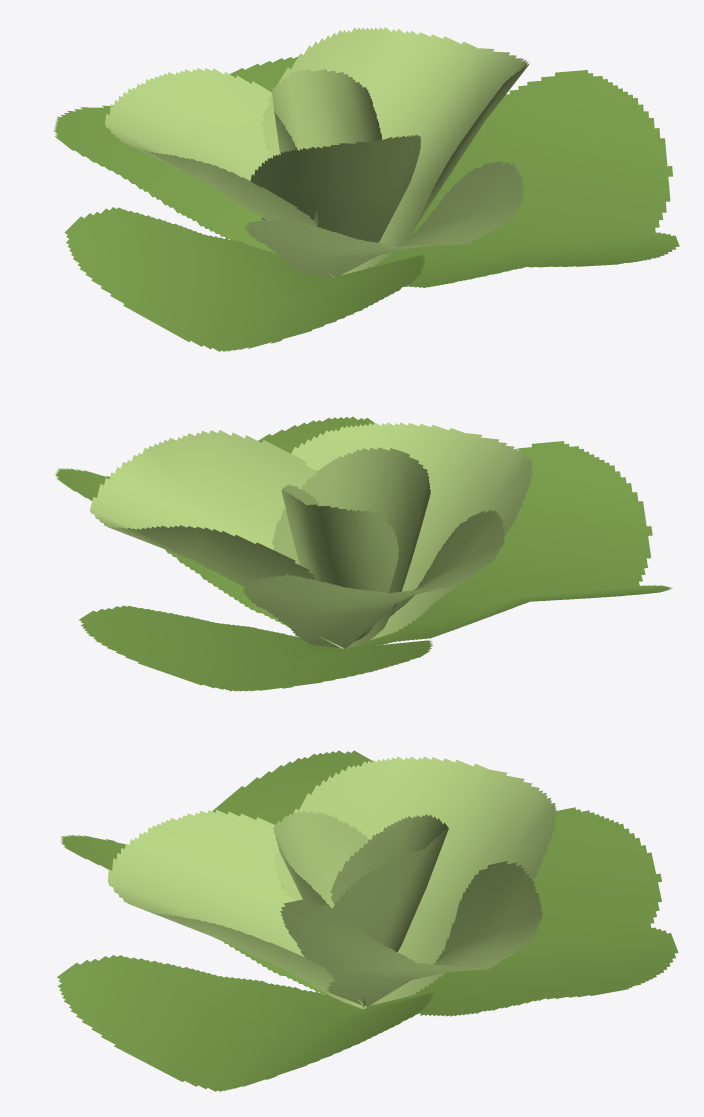
File: Water_Lettuce_3.gltf
The picture shows the model from 3 angles, top to bottom: view 1: azimuth 30°, elevation 25°; view 2: azimuth 150°, elevation 25°; view 3: azimuth 270°, elevation 25°; orthographic projection. The views are drawn at different scales.
Parts seen in each view (by area): view 1: Water_Lettuce_3; view 2: Water_Lettuce_3; view 3: Water_Lettuce_3.
Part boxes in pixels (x1,y1,x2,y2): Water_Lettuce_3: (54,27,679,351); Water_Lettuce_3: (55,416,672,691); Water_Lettuce_3: (57,750,678,1091).
Bounding box in the file's own units: 22.64 × 6.17 × 19.86.
Materials: 1 (1 with a texture image).
